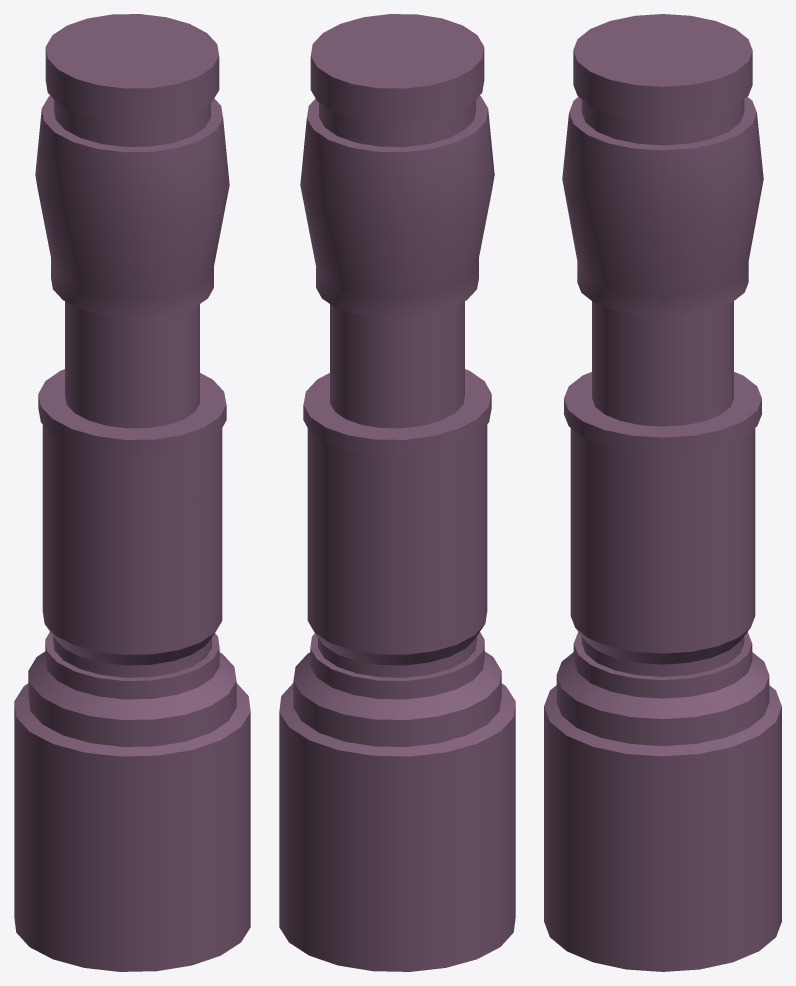
The model's file is Backbuilding 1.fbx.
3 views of the same model, side by side, from view 1: azimuth 30°, elevation 25°; view 2: azimuth 150°, elevation 25°; view 3: azimuth 270°, elevation 25° (orthographic).
Parts seen in each view (by area): view 1: pCylinder9; view 2: pCylinder9; view 3: pCylinder9.
Boxes of the visible parts, left/top/right/bottom form: pCylinder9: left=14, top=14, right=250, bottom=971; pCylinder9: left=279, top=14, right=515, bottom=971; pCylinder9: left=544, top=14, right=781, bottom=971.
Bounding box in the file's own units: 5.24 × 21.18 × 5.24.
